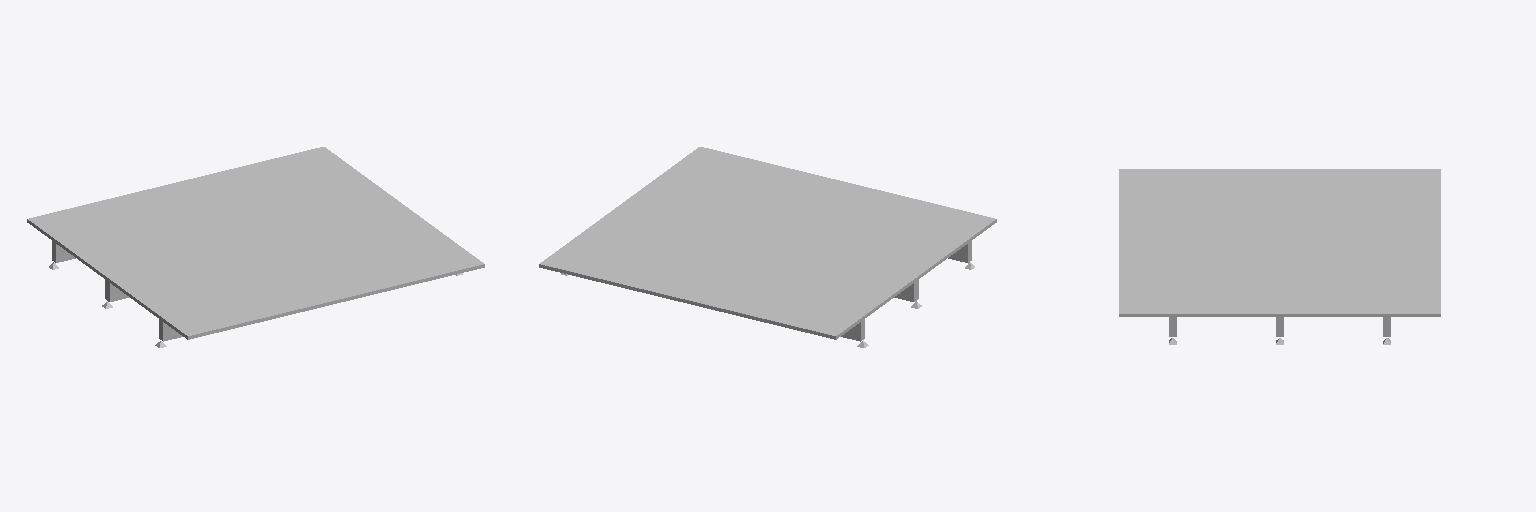
3 renders of one model, left to right at view 1: azimuth 30°, elevation 25°; view 2: azimuth 150°, elevation 25°; view 3: azimuth 270°, elevation 25°, orthographic.
Visible parts, largest first — view 1: concrete_geometry; view 2: concrete_geometry; view 3: concrete_geometry.
Part boxes in pixels (x1,y1,x2,y2): concrete_geometry: (27, 147, 484, 341); concrete_geometry: (539, 147, 996, 341); concrete_geometry: (1119, 169, 1440, 336).
Bounding box in the file's own units: 16400 × 1500 × 15000.